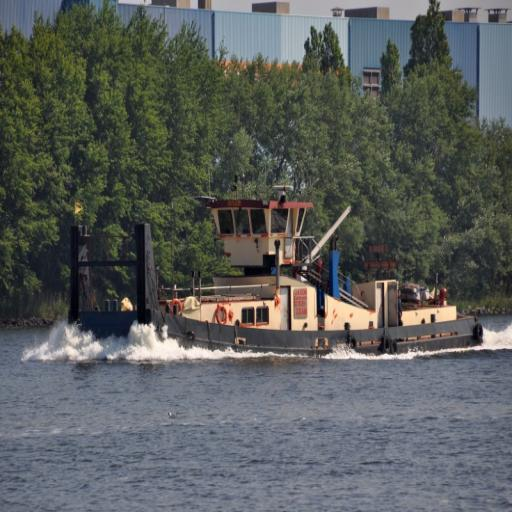tugboat: (64, 181, 488, 374)
